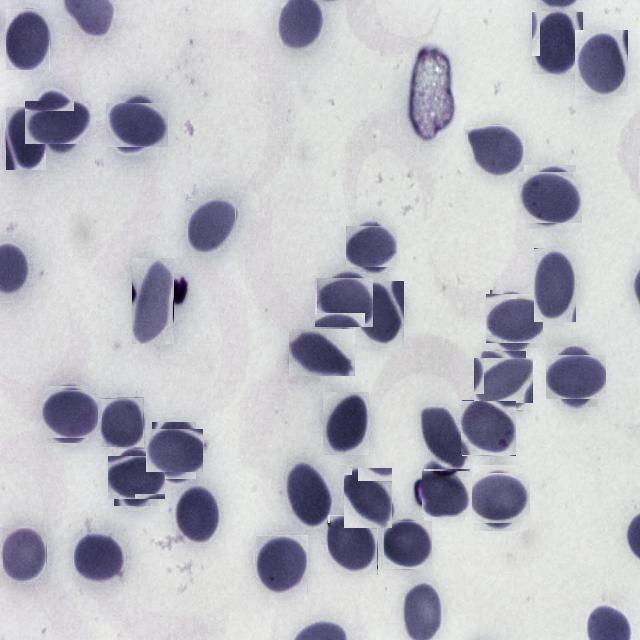red blood cell: (132, 258, 174, 344), (575, 30, 628, 96), (469, 469, 527, 527), (521, 168, 579, 226), (354, 282, 404, 348), (532, 11, 584, 74), (534, 248, 577, 322), (468, 125, 525, 180), (289, 329, 355, 376), (30, 95, 86, 150), (256, 535, 308, 594), (461, 401, 516, 456), (173, 483, 221, 546), (328, 515, 378, 575), (344, 467, 393, 528), (488, 292, 542, 346), (110, 98, 164, 152), (317, 275, 371, 329), (323, 392, 369, 455), (74, 533, 126, 586), (44, 388, 96, 441), (6, 8, 50, 70), (420, 408, 466, 467), (550, 351, 602, 403), (477, 354, 529, 406), (148, 425, 200, 476), (288, 460, 330, 523), (5, 107, 46, 170), (111, 452, 161, 503), (188, 199, 236, 252), (3, 527, 47, 582), (384, 522, 432, 570), (423, 471, 471, 518), (348, 223, 394, 270), (102, 398, 144, 448)
